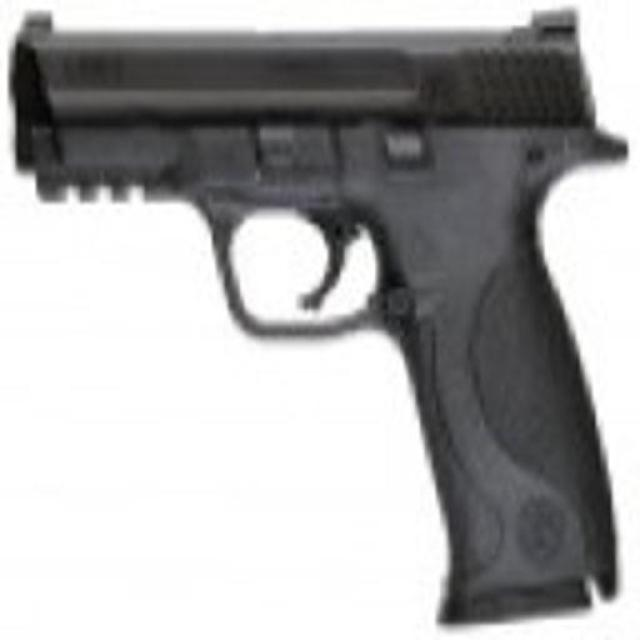pistol: (15, 5, 620, 624)
